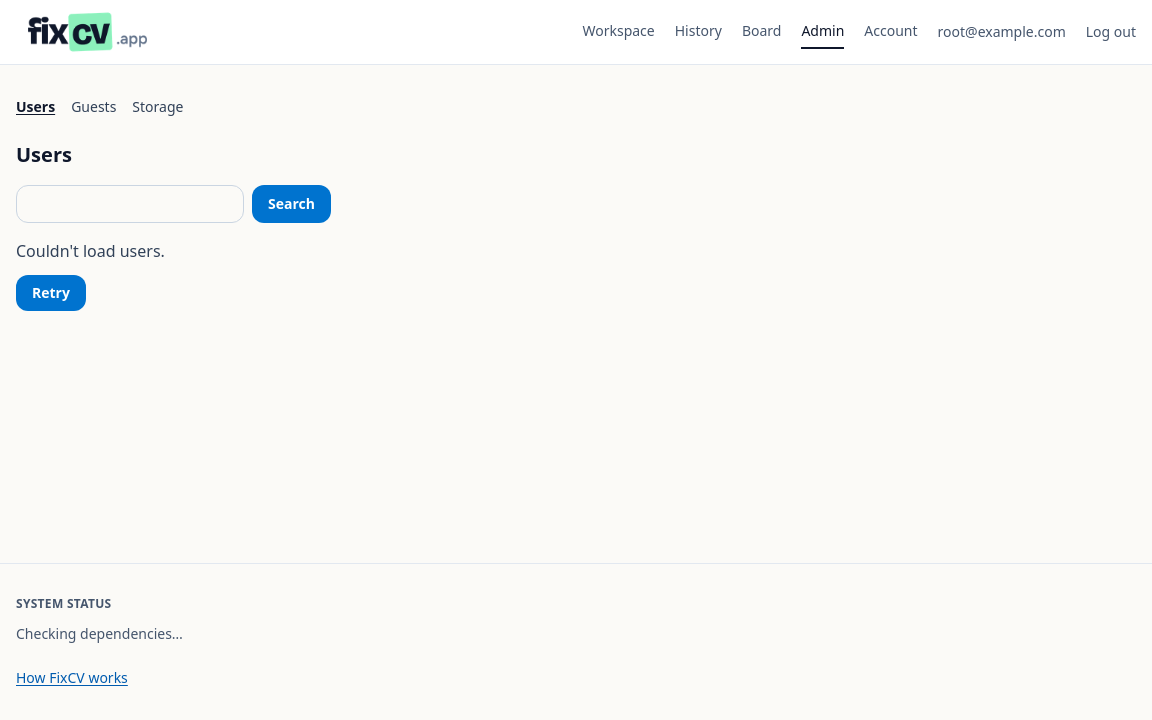
Test: /admin user list — AC-31 › error: an alert with Retry, no loading status; Retry refetches and shows the rows
Check: the message shows "Couldn't load users.", box [16, 240, 165, 262]
Click the button "Retry" at x=51, y=293, box [16, 275, 86, 311]
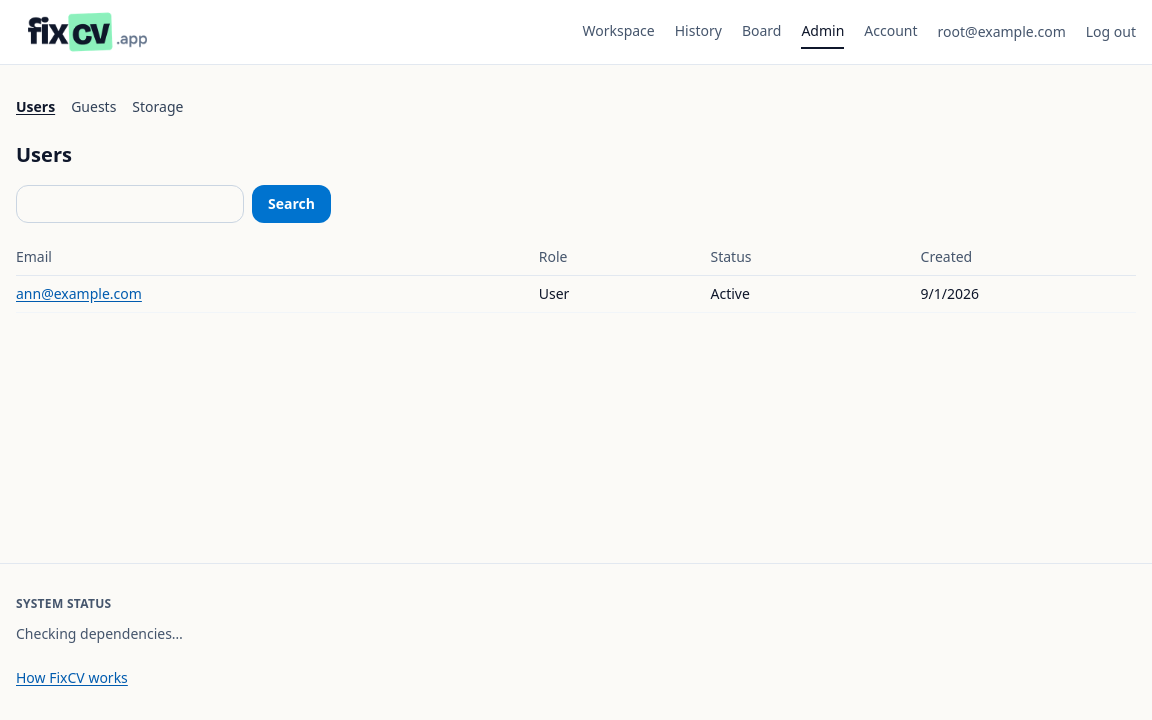
Check: the link "ann@example.com" is shown, box [16, 284, 142, 303]
